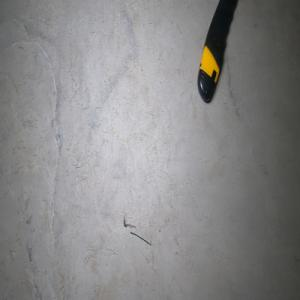Cutter: (196, 0, 238, 103)
